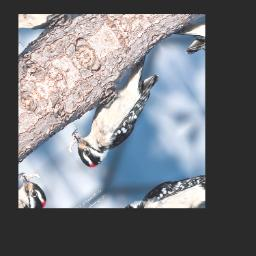Woodpecker: (59, 57, 177, 173)
